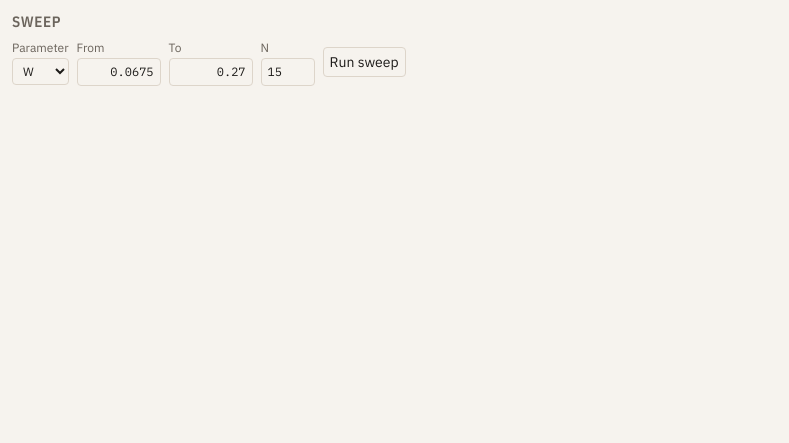
Test: Sweep invalidation › drops the curve after a stackup edit
The width and height of the screenshot is (789, 443).
Click the button "Run sweep".
click(364, 62)  # box [322,47,406,77]
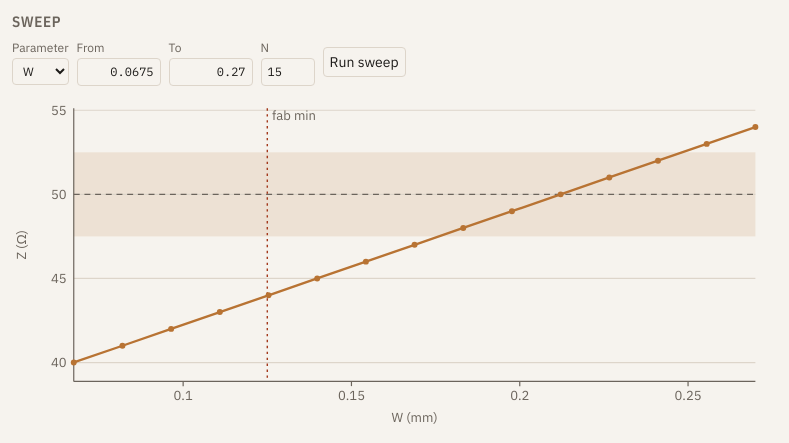
Now the picture named "Z sweep chart" is shown
